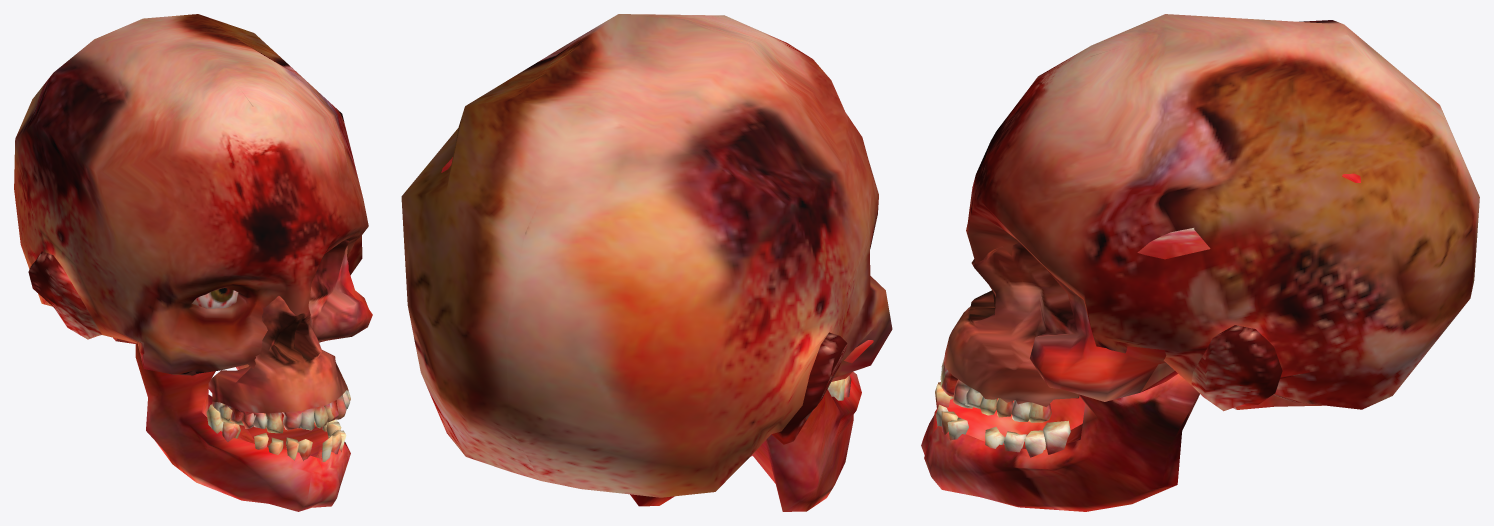
The model's file is male_head_noneck-02.fbx.
3 renders of one model, left to right at view 1: azimuth 30°, elevation 25°; view 2: azimuth 150°, elevation 25°; view 3: azimuth 270°, elevation 25°, orthographic. The views are drawn at different scales.
Visible parts, largest first — view 1: head3; view 2: head3; view 3: head3.
Boxes of the visible parts, x1,y1,x2,y2 form: head3: (14,14,372,511); head3: (401,14,892,511); head3: (921,14,1479,511).
Size of the model in its own units: 0.224 by 0.2754 by 0.3038.
